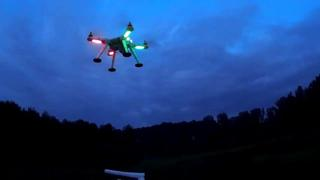UAV: (87, 22, 148, 72)
